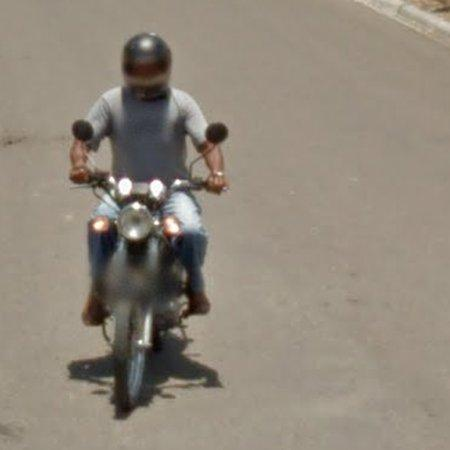motorcycles: (70, 118, 229, 415)
